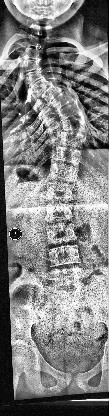Vertebrae: (47, 245, 83, 268), (46, 222, 78, 246), (51, 266, 85, 288), (43, 200, 74, 223), (54, 144, 82, 168), (48, 163, 78, 185), (45, 182, 75, 202), (29, 78, 53, 98), (58, 130, 84, 148), (22, 68, 44, 88), (40, 84, 62, 104), (58, 102, 82, 120), (52, 92, 74, 110), (62, 117, 86, 133), (22, 59, 44, 73), (25, 48, 43, 61)
